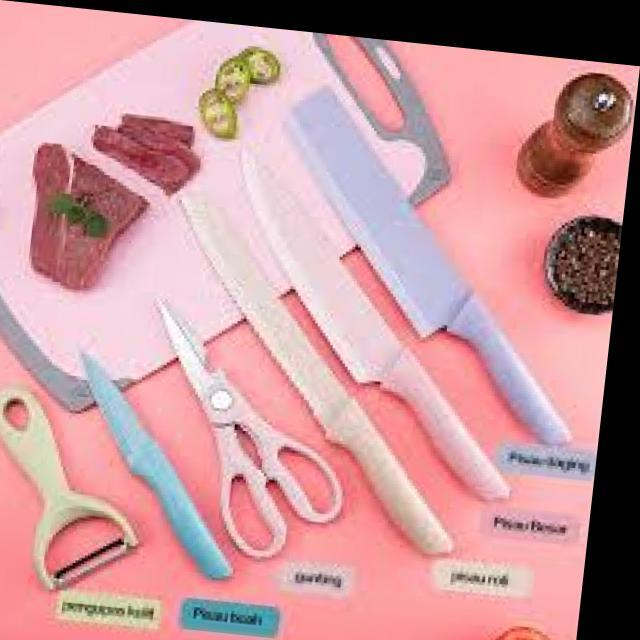knife: (277, 88, 574, 452), (176, 193, 456, 560), (238, 141, 514, 505), (77, 348, 236, 585)
